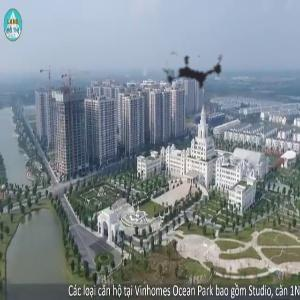drone: (142, 23, 243, 124)
